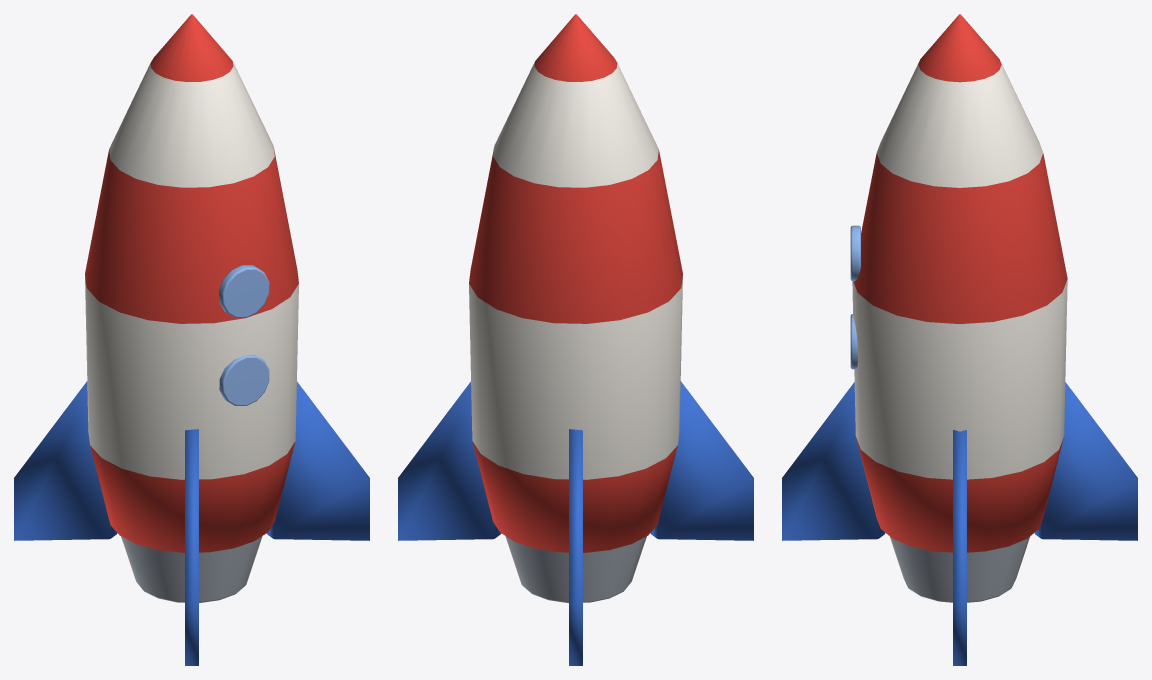
Rendered from toy_rocket.glb.
3 views of the same model, side by side, from view 1: azimuth 30°, elevation 25°; view 2: azimuth 150°, elevation 25°; view 3: azimuth 270°, elevation 25° (orthographic).
Visible parts, largest first — view 1: toy_rocket; view 2: toy_rocket; view 3: toy_rocket.
Part boxes in pixels (x1,y1,x2,y2): toy_rocket: (14, 14, 369, 665); toy_rocket: (398, 14, 753, 665); toy_rocket: (782, 14, 1137, 665).
Bounding box in the file's own units: 4.45 × 9 × 5.12.
